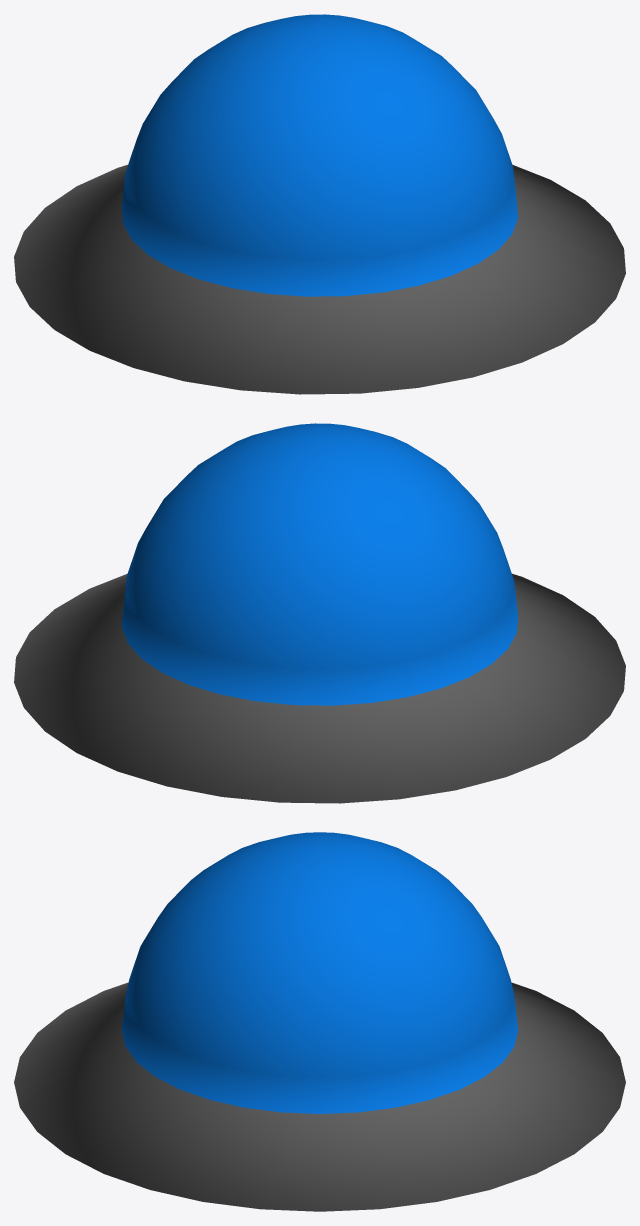
The model's file is enemy_1.glb.
3 views of the same model, one above another, from view 1: azimuth 30°, elevation 25°; view 2: azimuth 150°, elevation 25°; view 3: azimuth 270°, elevation 25° (orthographic).
Parts seen in each view (by area): view 1: 球体; view 2: 球体; view 3: 球体.
Boxes of the visible parts, left/top/right/bottom form: 球体: left=14, top=14, right=625, bottom=394; 球体: left=14, top=423, right=625, bottom=803; 球体: left=14, top=832, right=625, bottom=1211.
Size of the model in its own units: 2.53 by 1.34 by 2.53.
